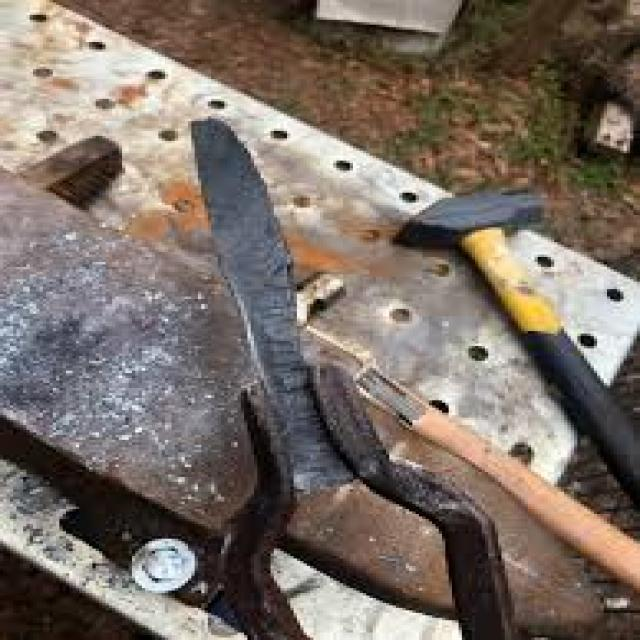hammer: (376, 167, 640, 498)
